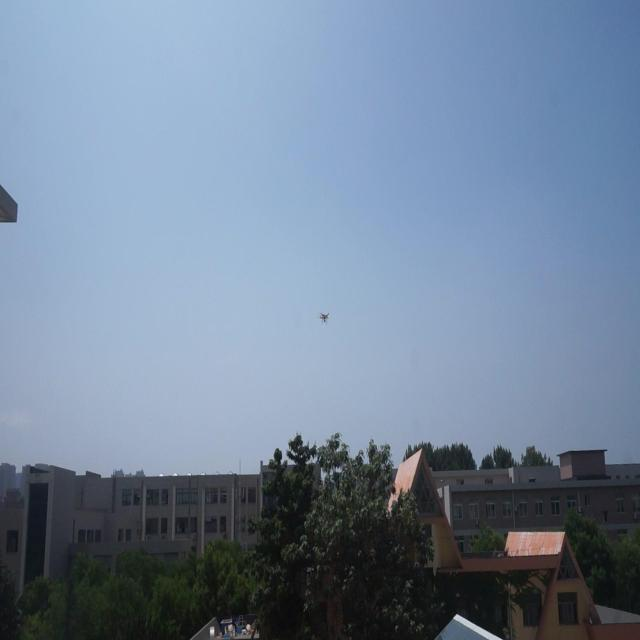drone: (316, 304, 332, 328)
